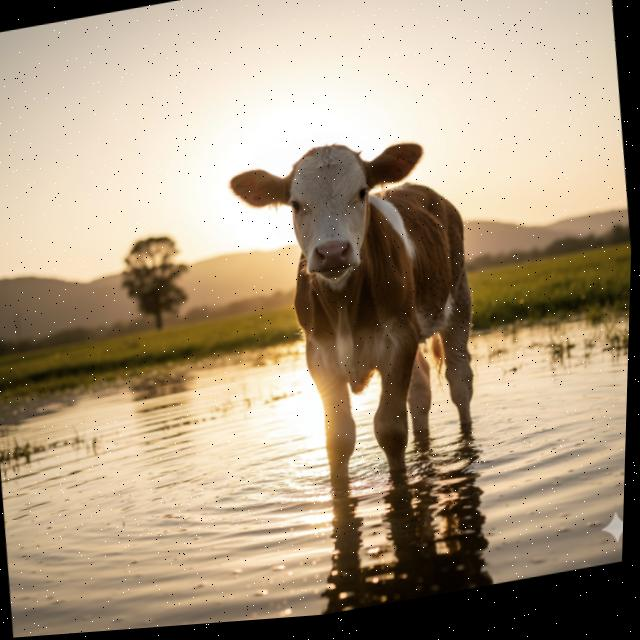cow: (200, 106, 518, 536)
